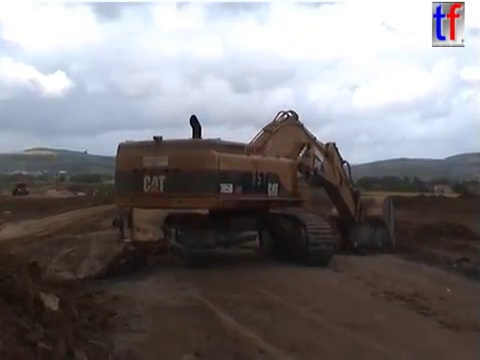excavator: (111, 106, 398, 270)
truck: (109, 200, 260, 280), (11, 182, 32, 198)
